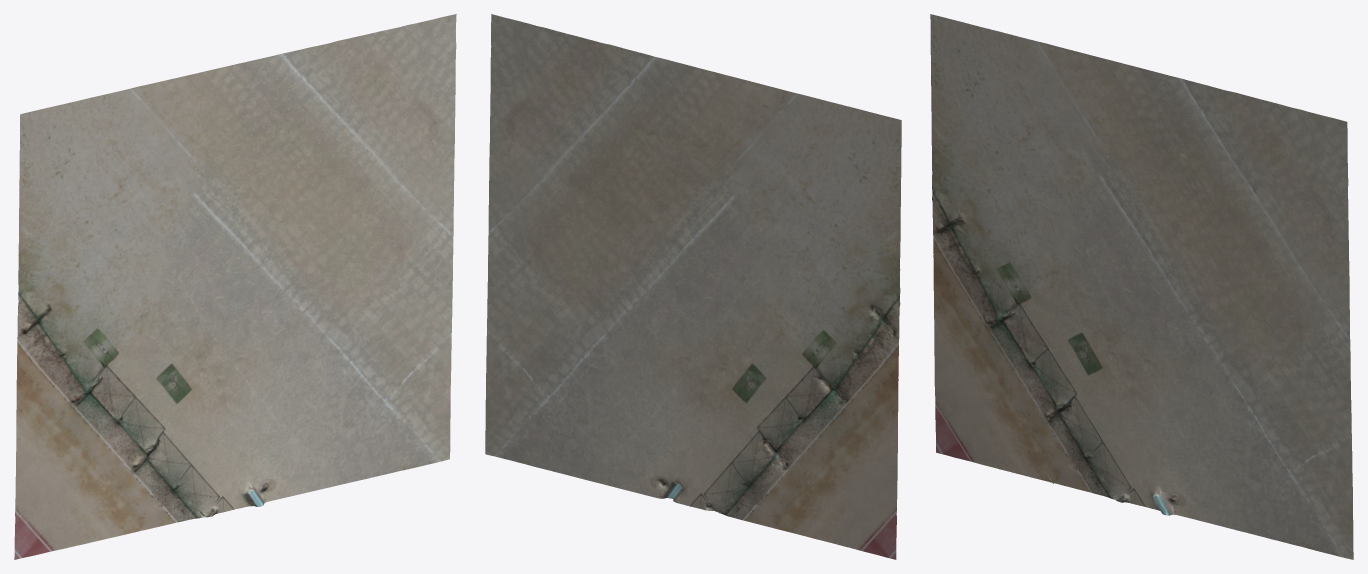
File: Tile_+018_+012.fbx
3 views of the same model, side by side, from view 1: azimuth 30°, elevation 25°; view 2: azimuth 150°, elevation 25°; view 3: azimuth 330°, elevation 25° (orthographic). The views are drawn at different scales.
Parts seen in each view (by area): view 1: DefaultName; view 2: DefaultName; view 3: DefaultName.
Boxes of the visible parts, x1,y1,x2,y2 form: DefaultName: (14, 14, 456, 559); DefaultName: (485, 14, 901, 559); DefaultName: (930, 14, 1353, 559).
Bounding box in the file's own units: 22.54 × 22.54 × 3.26.
